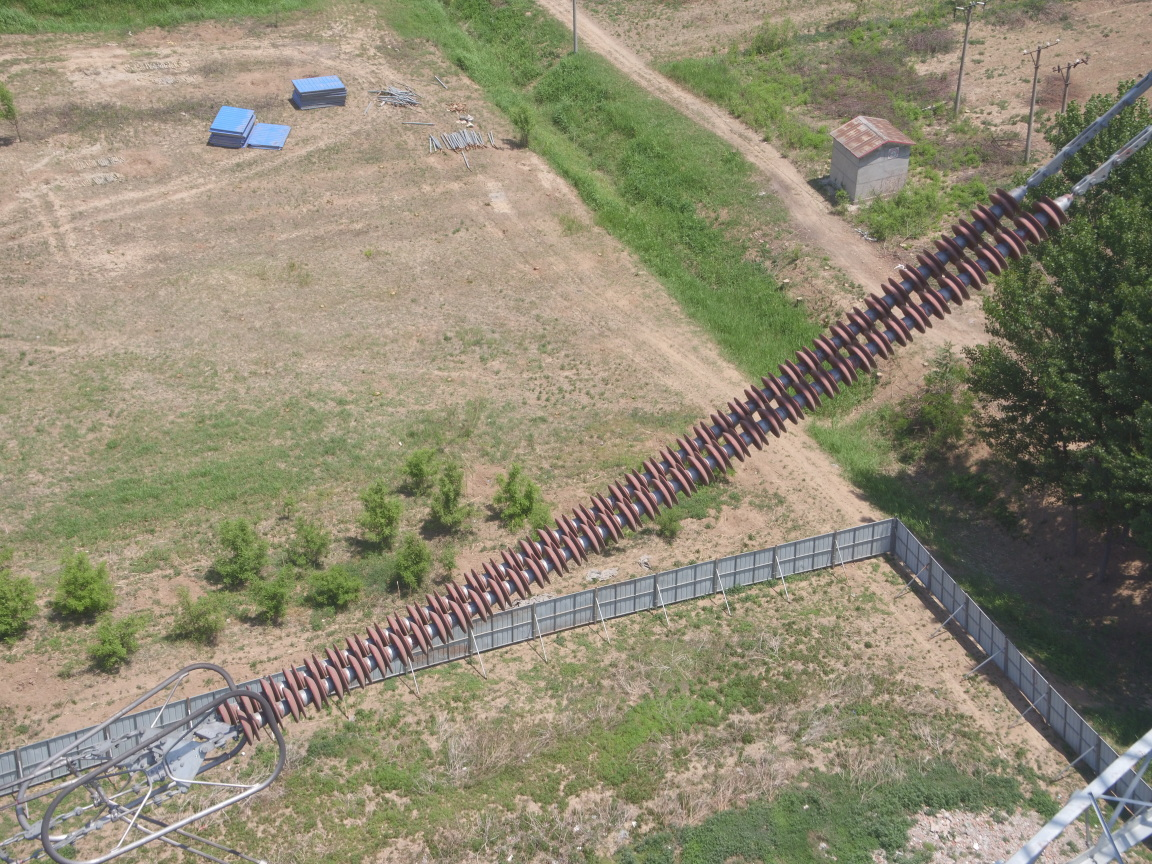insulator: (191, 155, 1102, 771)
